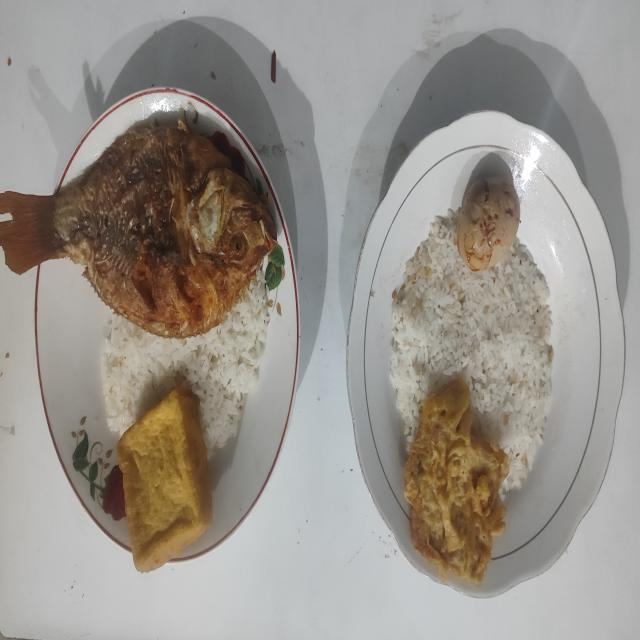ikan_mujair: (0, 121, 276, 338)
nasi_putih: (390, 211, 554, 498), (101, 278, 271, 455)
tahu_goreng: (117, 386, 212, 572)
